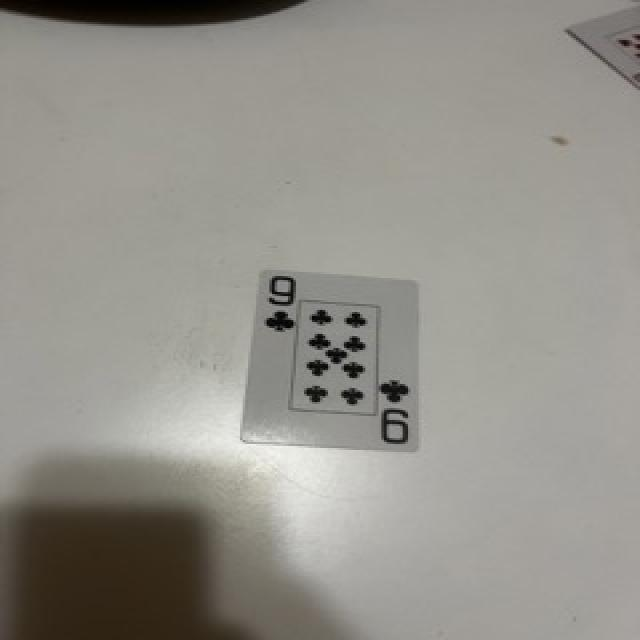9 of clubs: (240, 268, 425, 455)
